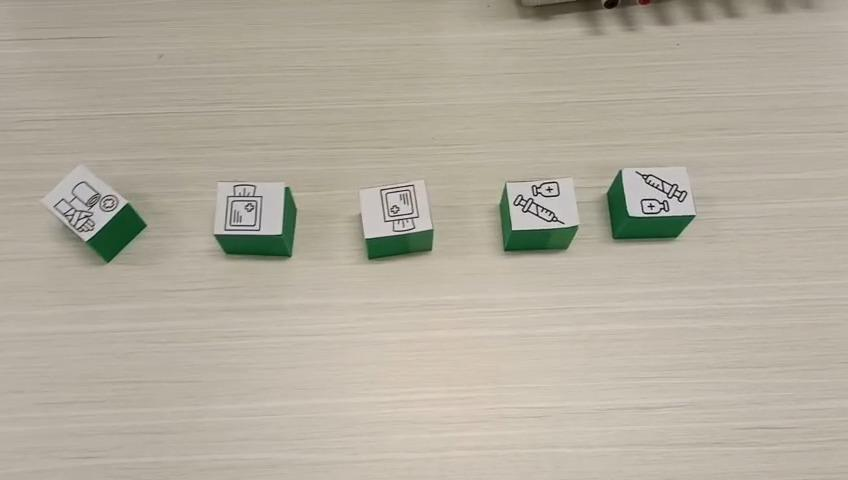Bandages: (36, 162, 147, 264)
Gauze: (211, 180, 298, 259), (358, 178, 434, 259)
antiseptic cream: (606, 165, 698, 240), (498, 175, 579, 250)
